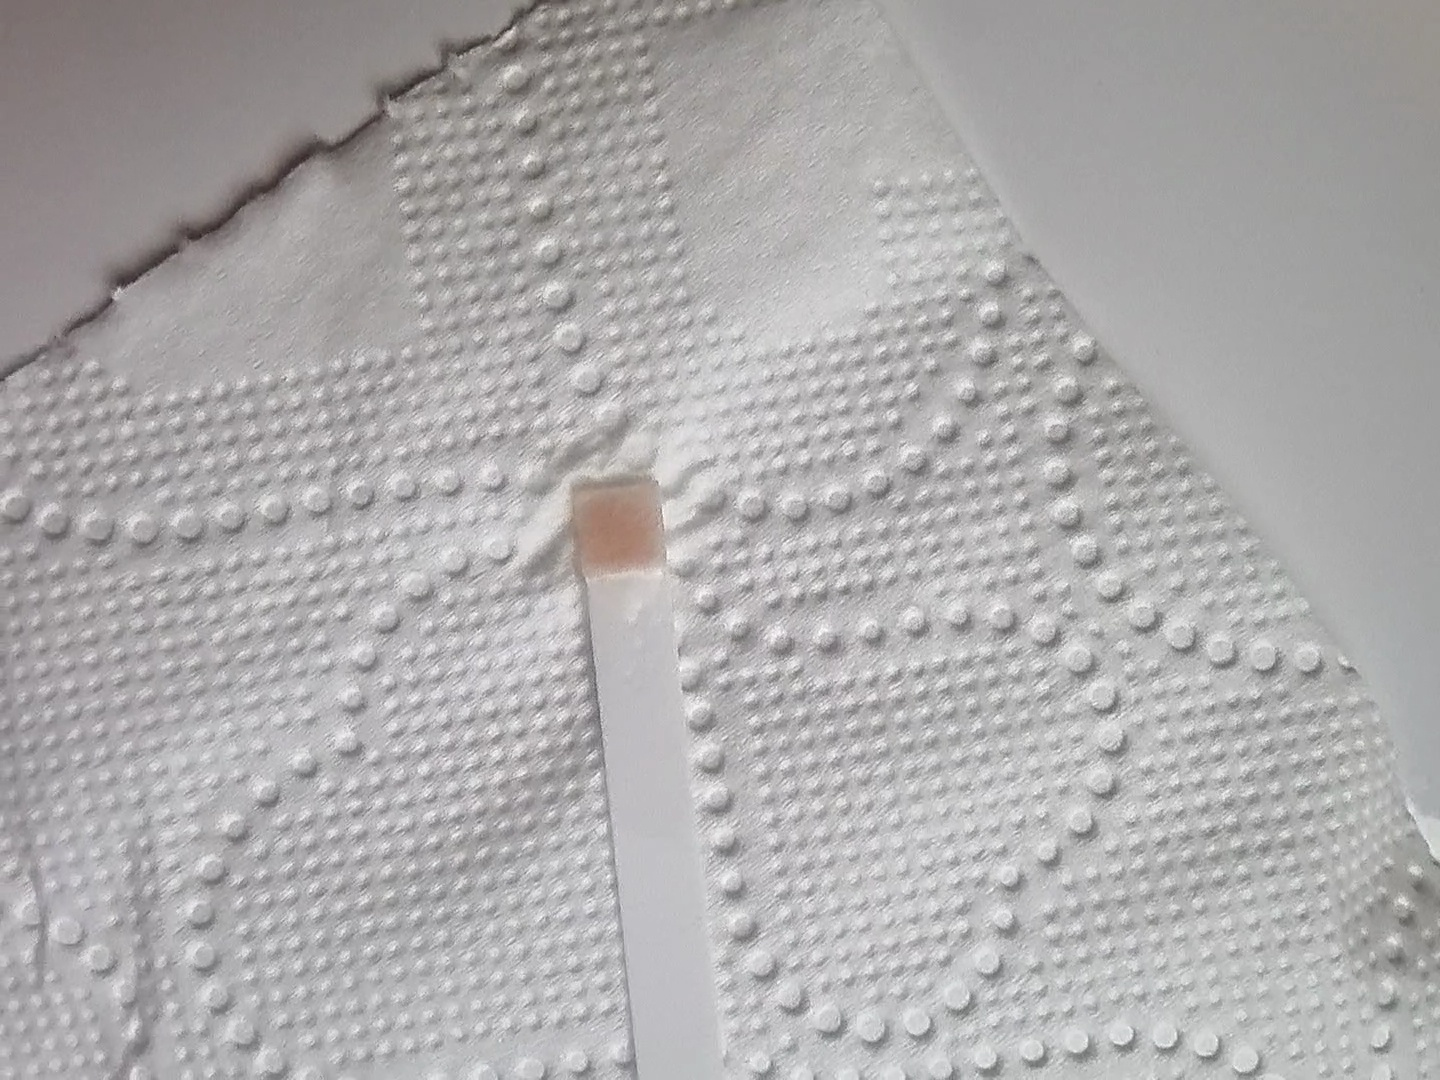keto-tip: (566, 476, 670, 584)
